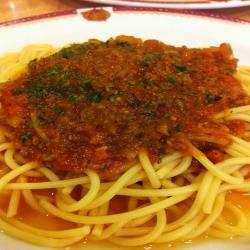bolonese_pasta: (6, 32, 250, 244)
